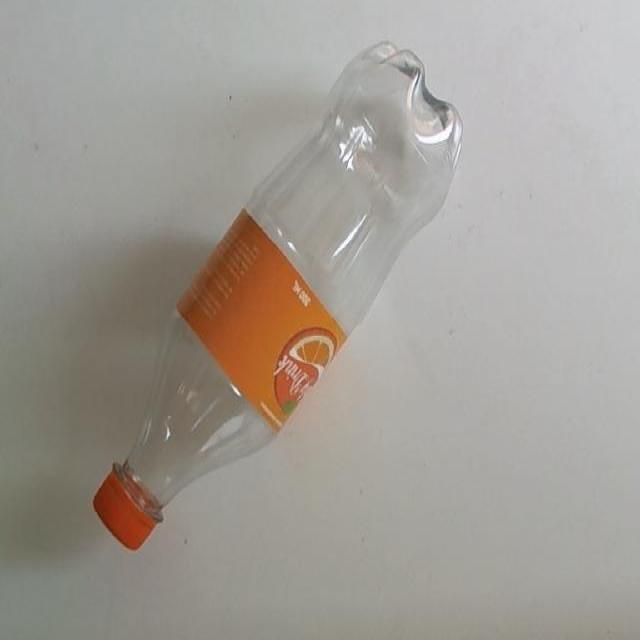non-defect: (92, 38, 465, 553)
